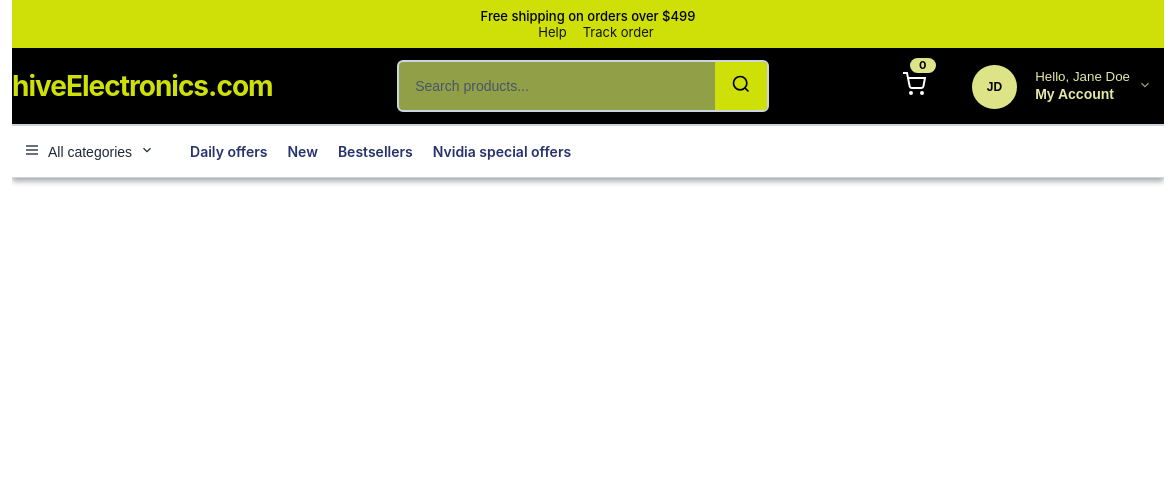
Test: Header — authenticated state › TC-UNIT-FE-HEADER-004 — shows user profile info when authenticated
This screenshot has width=1176, height=504.
// Act — open user menu
Click the button with aria-label "menú de usuario". click: (1057, 86)
box: [950,62,1164,110]
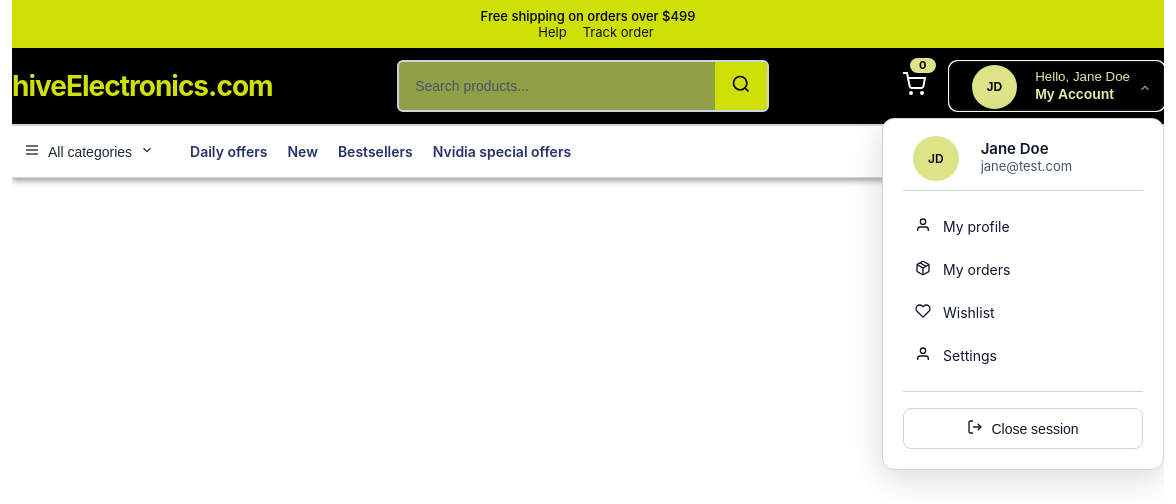
Now the text "Jane Doe" is shown, box [981,139,1049,158]
Now the text "jane@test.com" is shown, box [981,158,1072,174]
